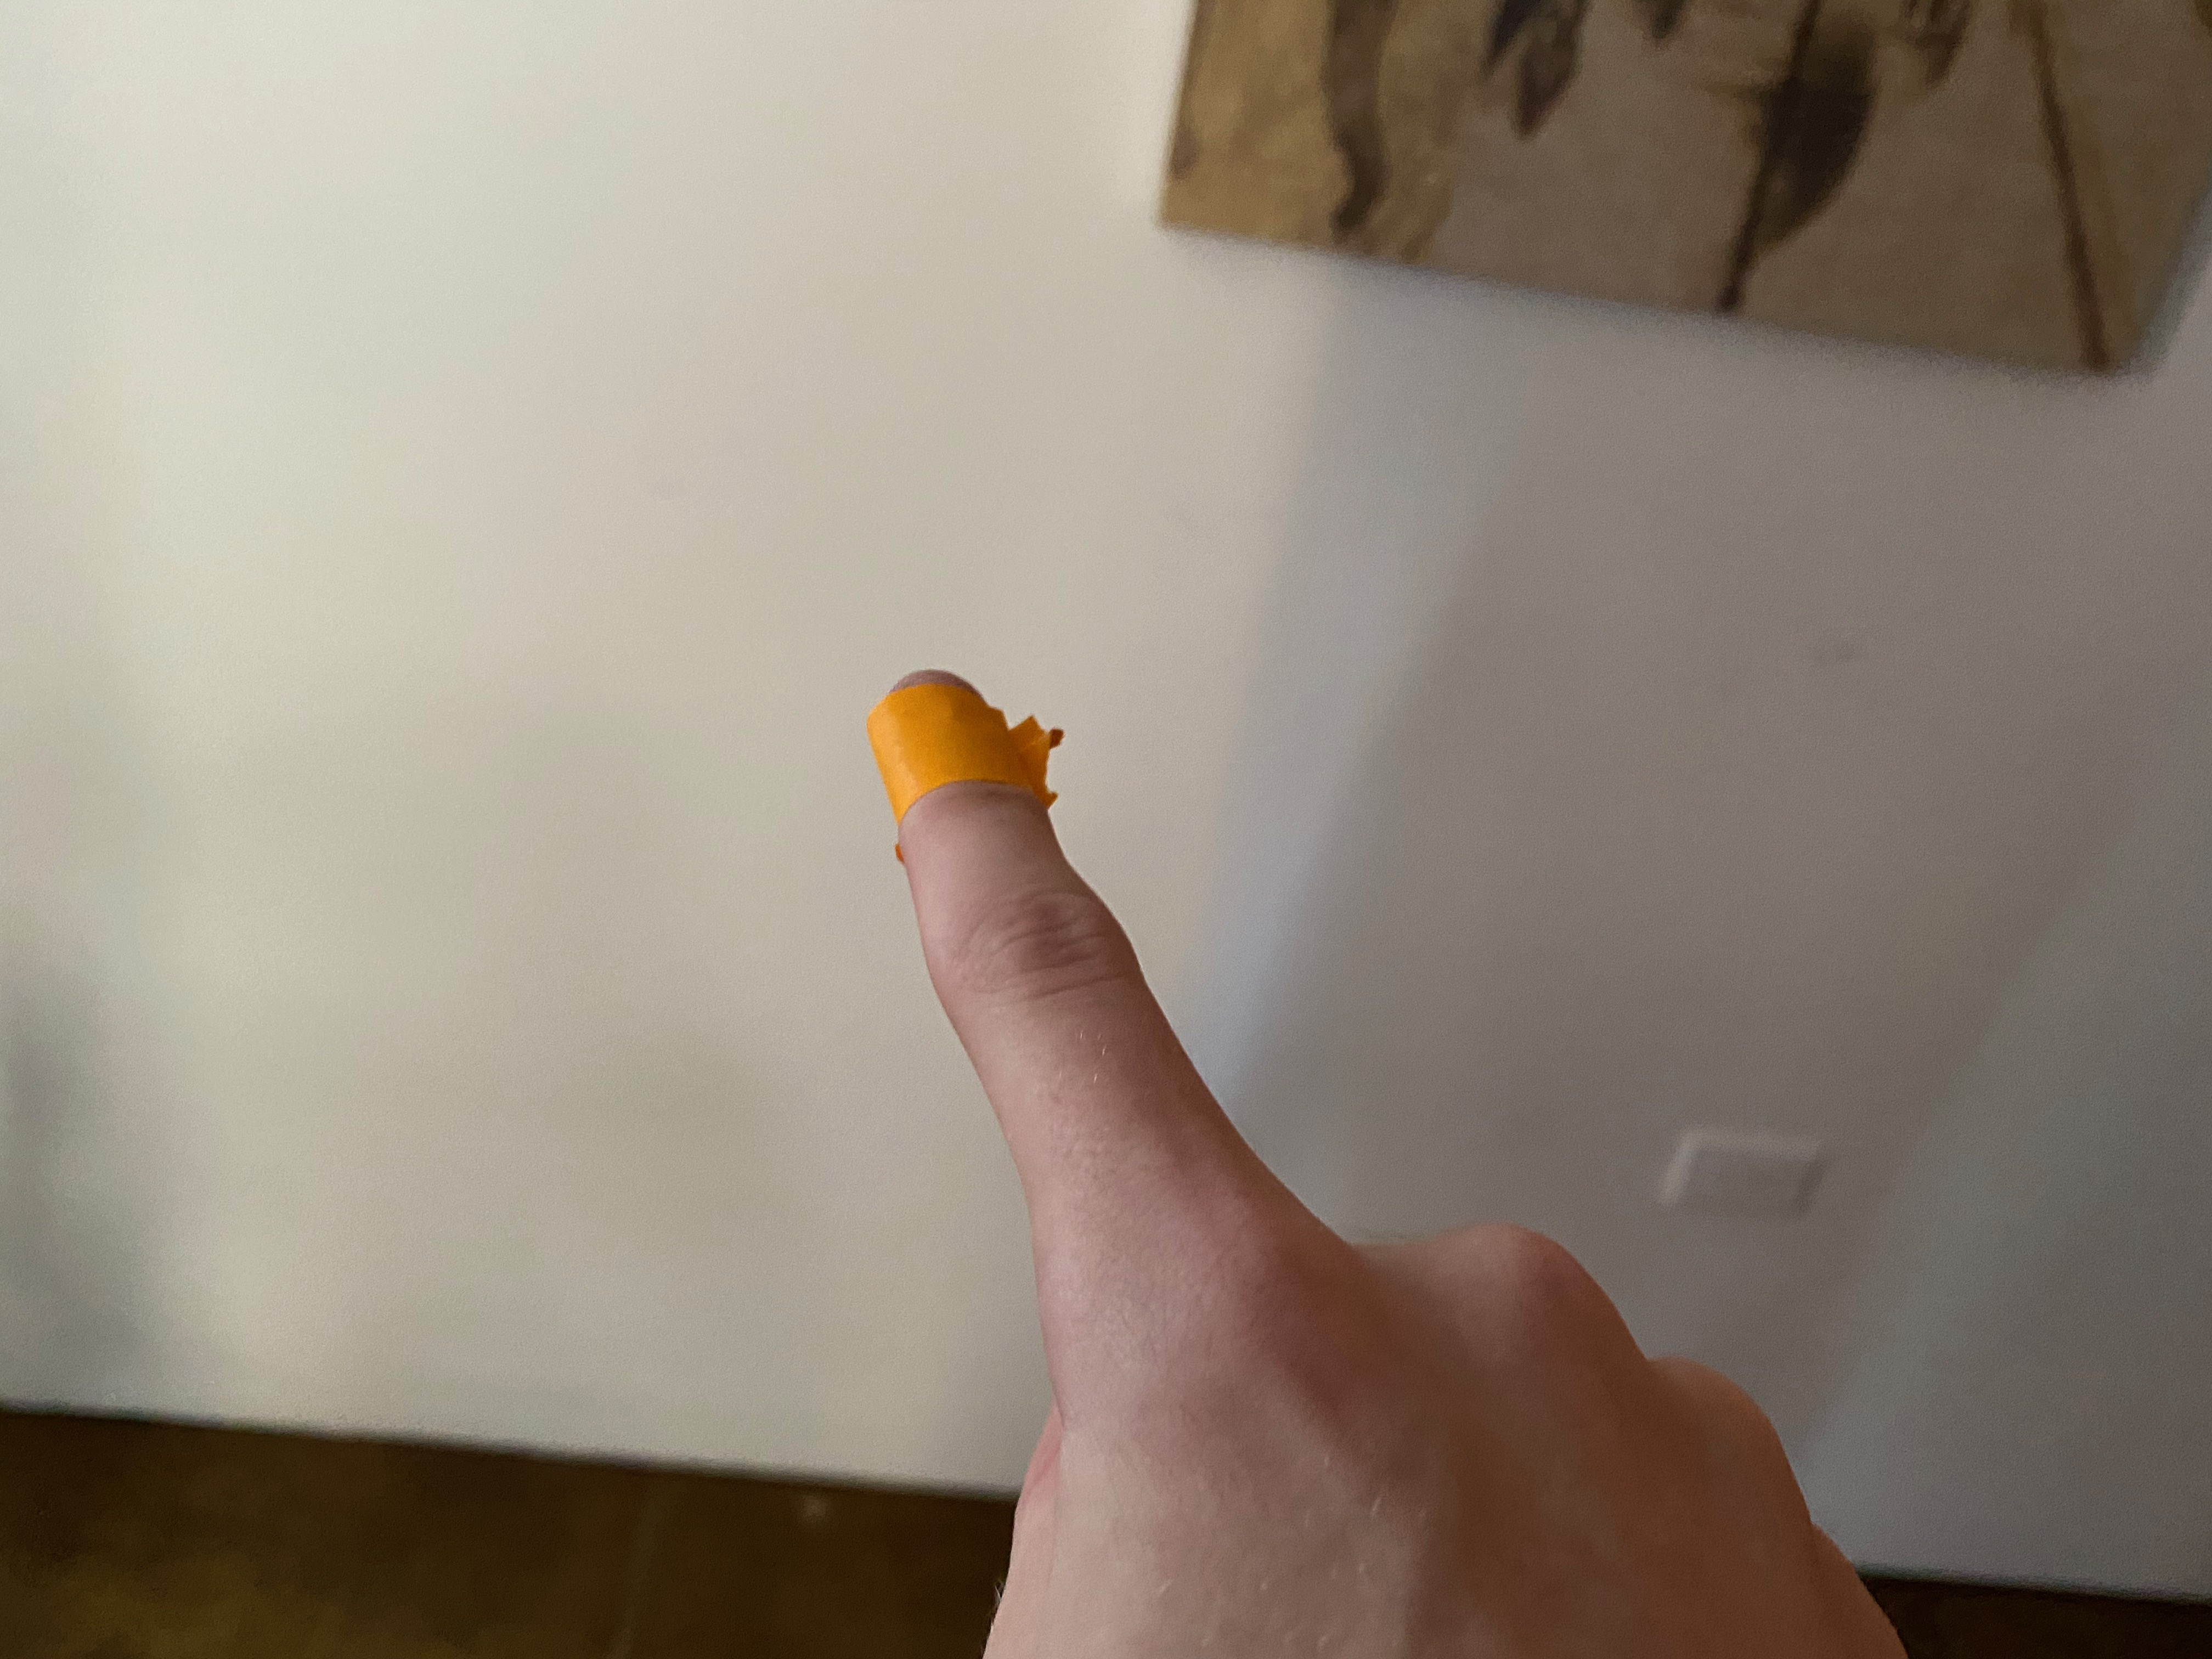fingertip: (846, 647, 1104, 897)
